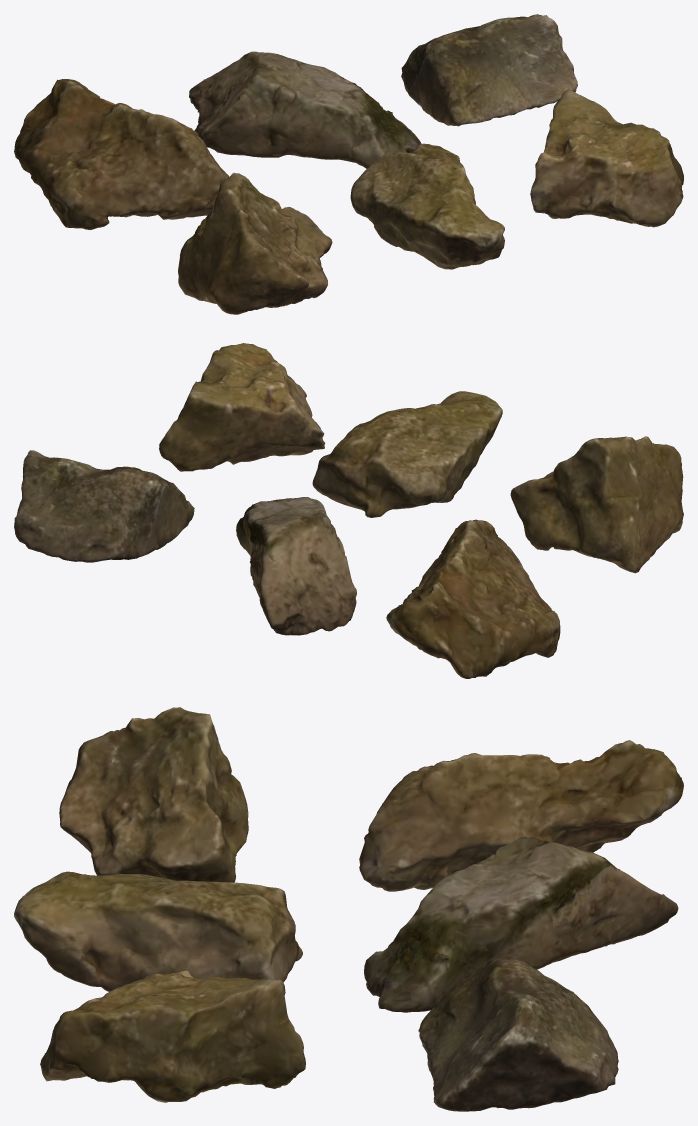
Rendered from rock_moss_set_01.glb.
3 renders of one model, top to bottom at view 1: azimuth 30°, elevation 25°; view 2: azimuth 150°, elevation 25°; view 3: azimuth 270°, elevation 25°, orthographic. The views are drawn at different scales.
Parts seen in each view (by area): view 1: rock_moss_set_01_rock01; view 2: rock_moss_set_01_rock01; view 3: rock_moss_set_01_rock01.
Part boxes in pixels (<box>): rock_moss_set_01_rock01: <box>14,14,683,314</box>; rock_moss_set_01_rock01: <box>14,343,683,678</box>; rock_moss_set_01_rock01: <box>14,707,683,1111</box>.
Size of the model in its own units: 8 by 1.77 by 6.95.
1 material, 1 textured.
